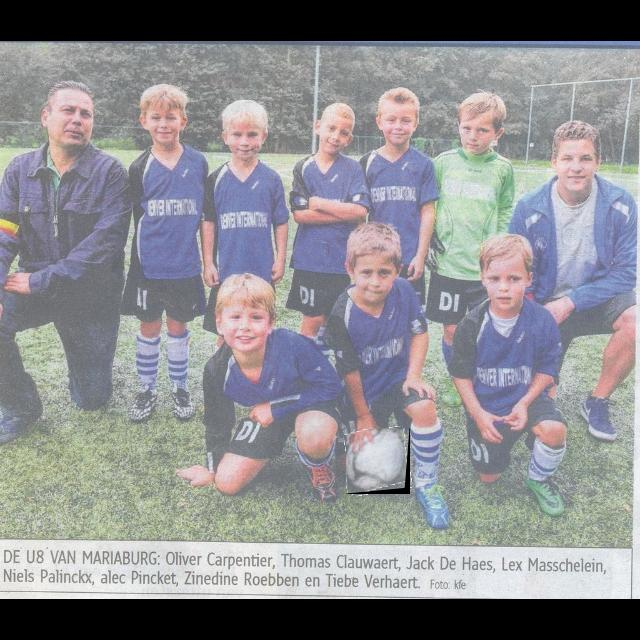Football: (346, 428, 410, 494)
